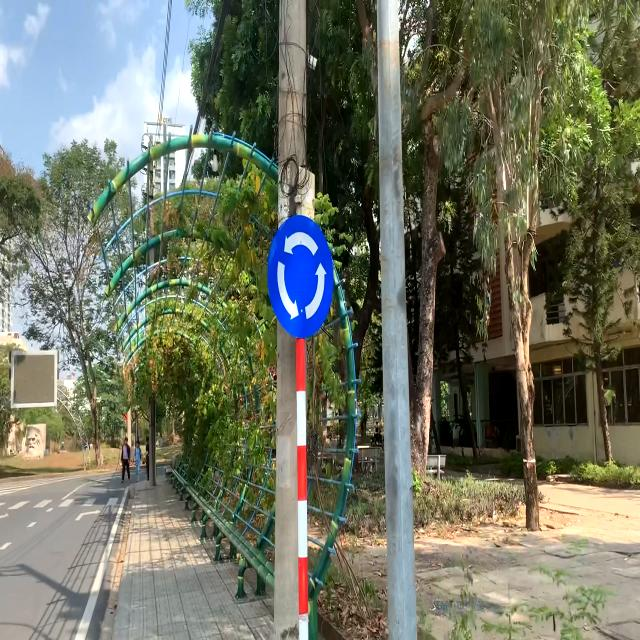R.303: (266, 203, 334, 341)
